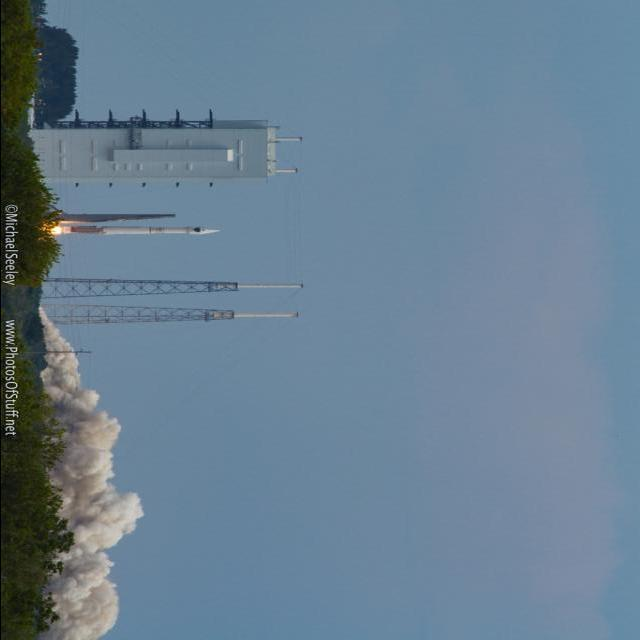missile: (72, 218, 220, 242)
